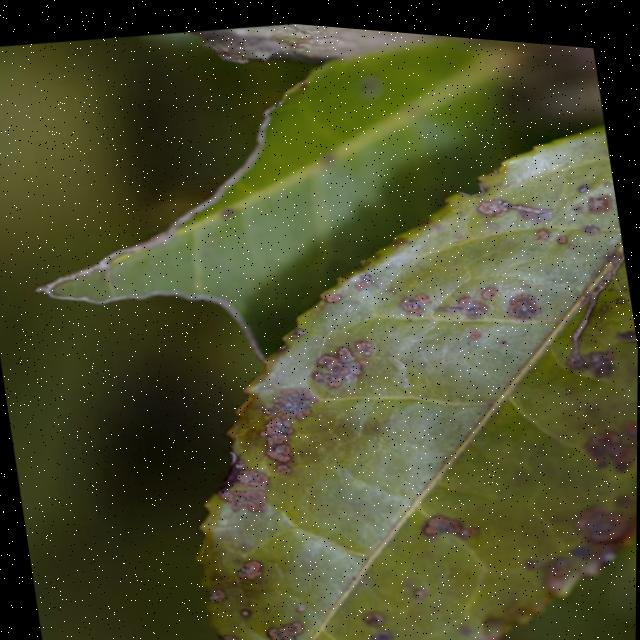Tea red rust: (169, 138, 639, 640)
